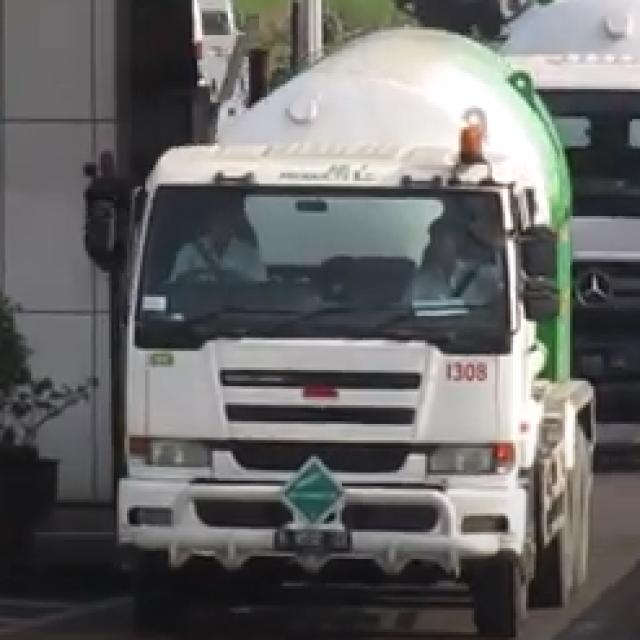truck: (91, 28, 619, 625)
